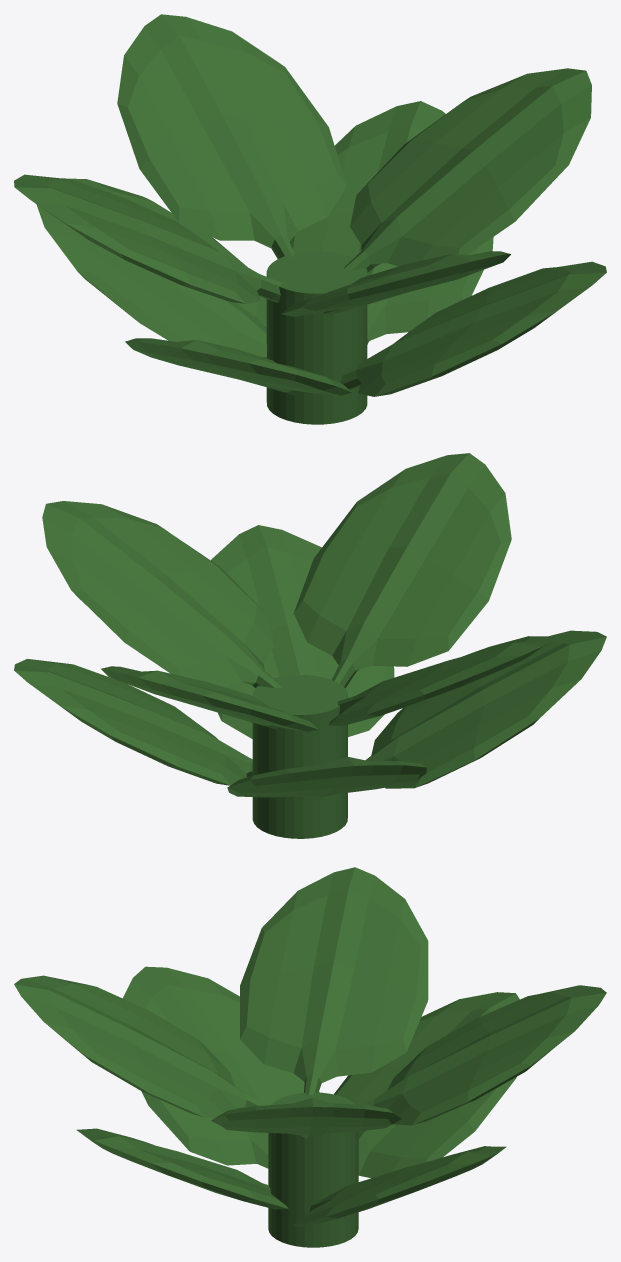
Rendered from grass4.gltf.
The picture shows the model from 3 angles, top to bottom: view 1: azimuth 30°, elevation 25°; view 2: azimuth 150°, elevation 25°; view 3: azimuth 270°, elevation 25°; orthographic projection. The views are drawn at different scales.
Parts seen in each view (by area): view 1: grass4; view 2: grass4; view 3: grass4.
Boxes of the visible parts, bbox=[...] form: grass4: bbox=[14, 14, 606, 424]; grass4: bbox=[14, 453, 606, 838]; grass4: bbox=[14, 867, 606, 1247].
Size of the model in its own units: 5.24 by 2.44 by 5.48.
